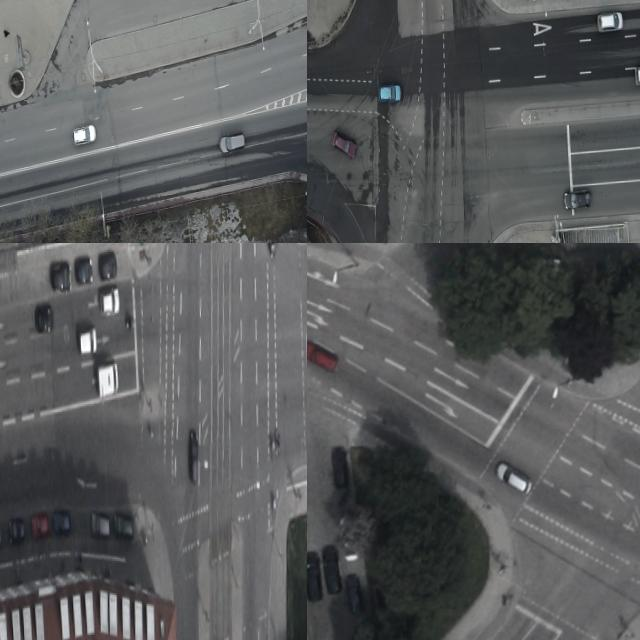UAI: (494, 458, 535, 497), (307, 338, 340, 374), (322, 543, 342, 593), (332, 445, 351, 488), (307, 550, 323, 601), (331, 129, 357, 159), (345, 571, 364, 612), (70, 123, 97, 150), (218, 130, 246, 155), (50, 260, 72, 291), (562, 189, 592, 210), (597, 10, 624, 33), (97, 250, 117, 280), (34, 303, 54, 333), (113, 511, 134, 539), (188, 429, 199, 482), (377, 82, 403, 104), (79, 326, 98, 354), (91, 511, 110, 539), (76, 255, 93, 286), (100, 288, 120, 314), (8, 516, 26, 544), (53, 510, 70, 536), (32, 514, 49, 540), (262, 243, 278, 259), (634, 63, 640, 86)
harvester: (97, 360, 119, 398)
